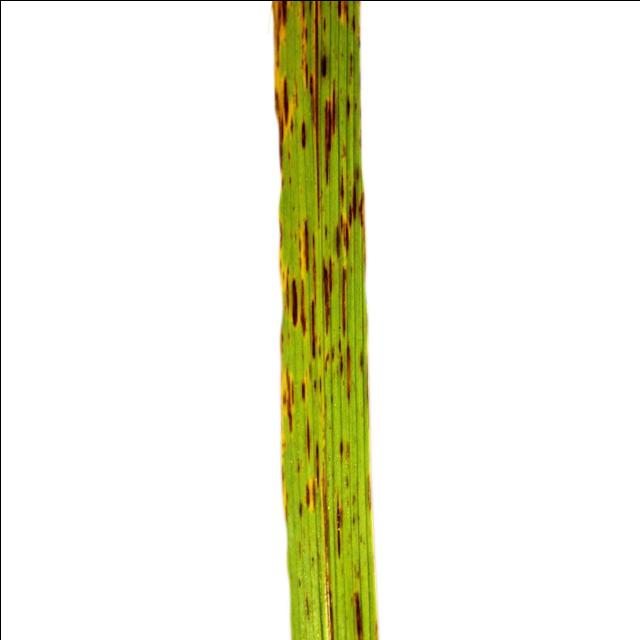Narrow brown: (190, 0, 595, 640)
